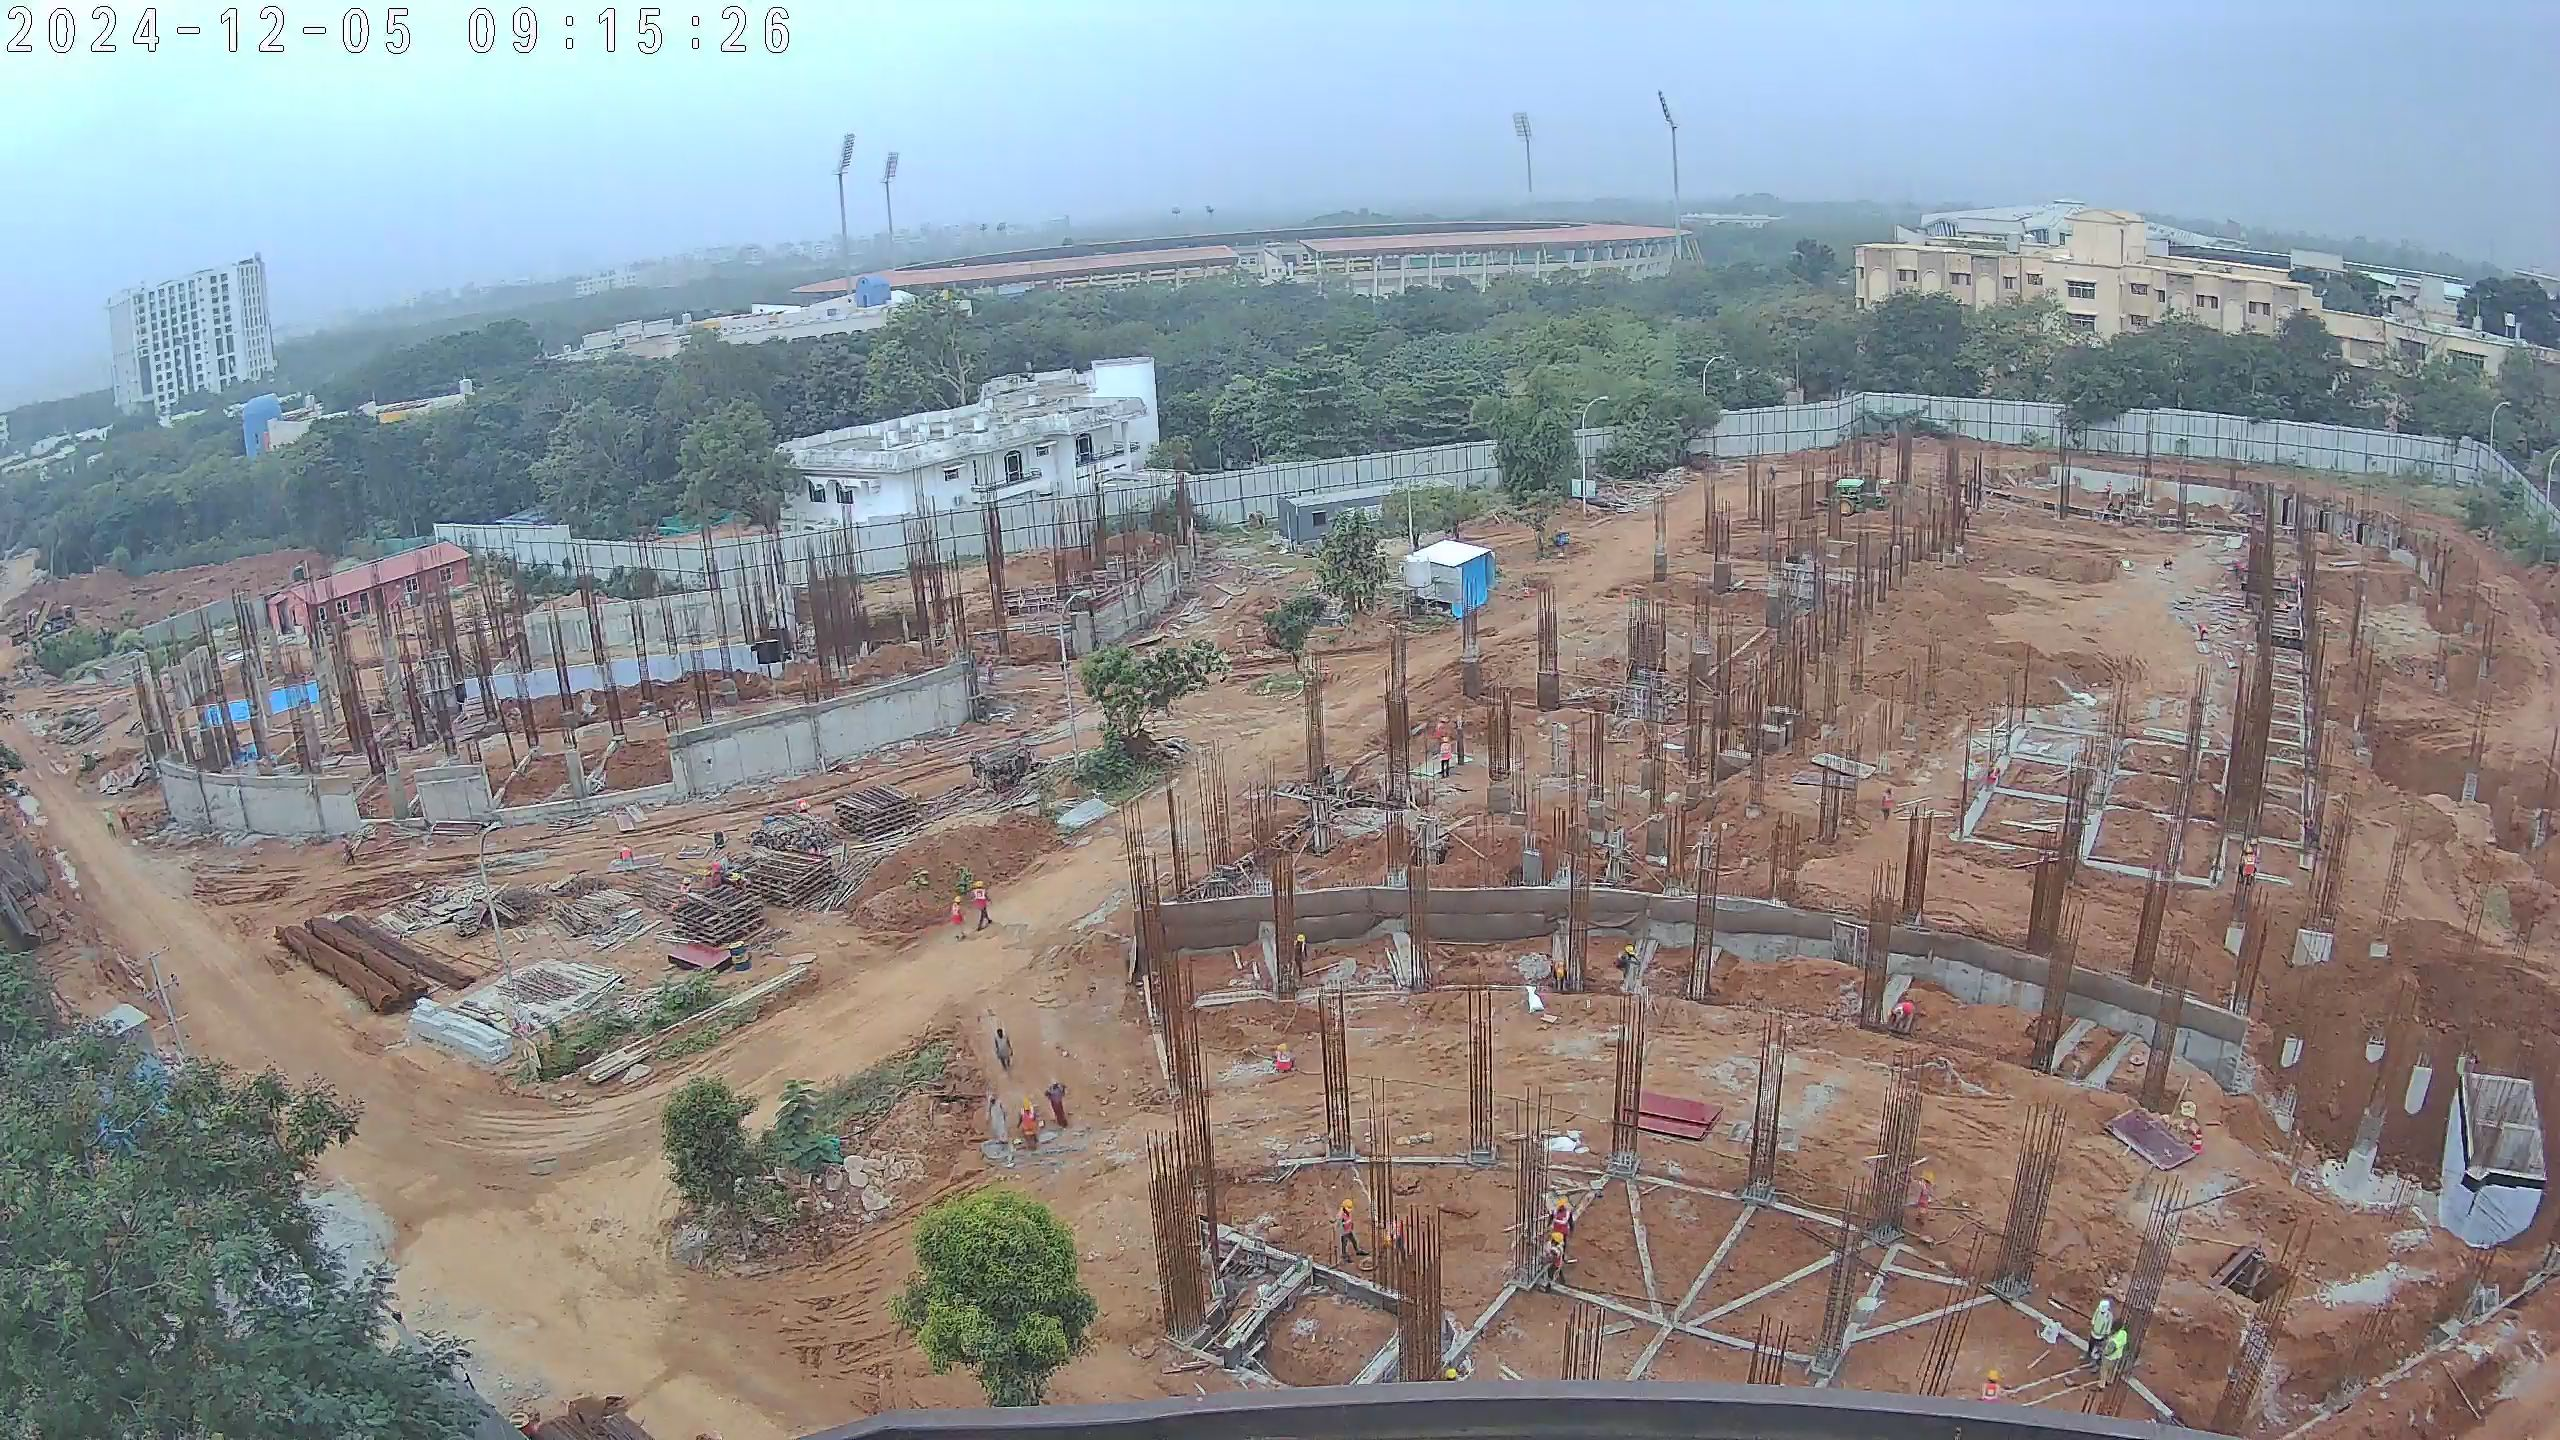bulldozer: (1827, 471, 1891, 520)
worker: (1333, 1187, 1364, 1275), (2083, 1293, 2121, 1364), (1043, 1079, 1077, 1150), (1537, 1230, 1570, 1297), (2096, 1326, 2129, 1391), (1547, 1193, 1574, 1268), (969, 875, 998, 937), (981, 1093, 1014, 1146), (1970, 1364, 2016, 1402), (988, 1021, 1017, 1076), (1886, 998, 1920, 1040), (2236, 841, 2259, 903), (1913, 1166, 1935, 1230), (1016, 1100, 1041, 1156), (1290, 928, 1311, 986), (950, 894, 970, 949), (1272, 1041, 1304, 1075), (1875, 781, 1897, 824), (1437, 734, 1456, 783), (1612, 941, 1635, 979), (99, 804, 120, 842), (2229, 557, 2249, 590), (116, 801, 135, 835), (341, 836, 358, 870), (1959, 499, 1974, 535), (2194, 616, 2212, 645), (1440, 1364, 1460, 1388), (2100, 479, 2115, 507), (1766, 459, 1778, 487), (2162, 553, 2176, 576)
